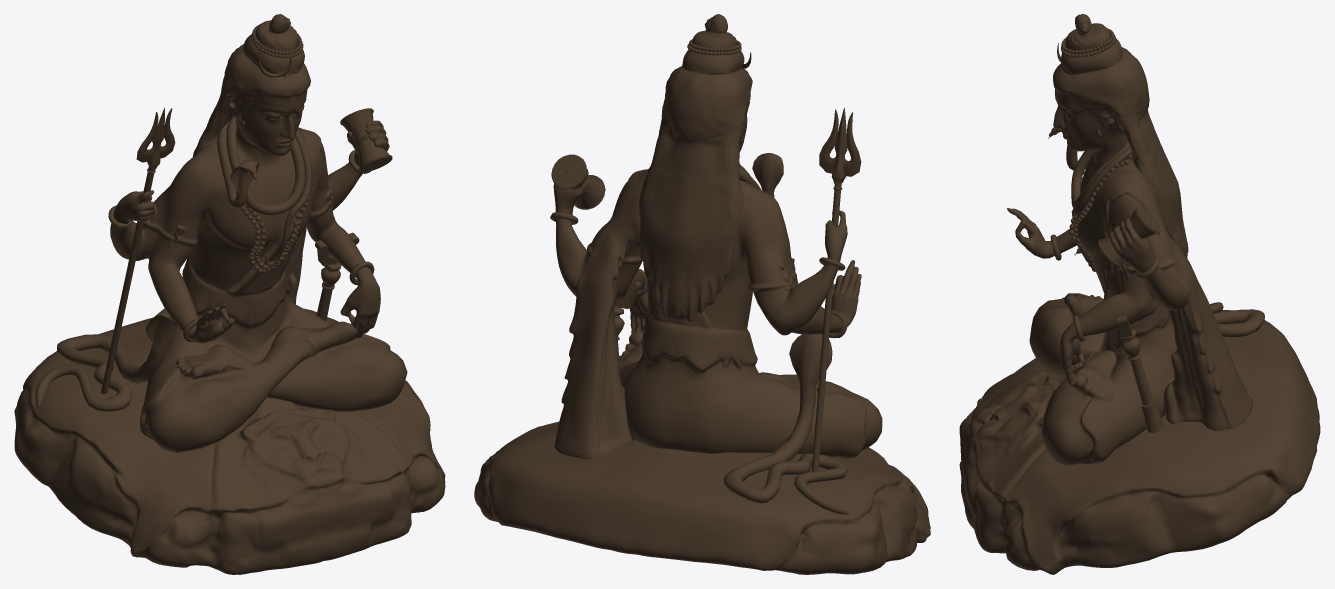
The model's file is shiva.glb.
3 renders of one model, left to right at view 1: azimuth 30°, elevation 25°; view 2: azimuth 150°, elevation 25°; view 3: azimuth 270°, elevation 25°, orthographic. The views are drawn at different scales.
Visible parts, largest first — view 1: shiva-murudeshwar-scan; view 2: shiva-murudeshwar-scan; view 3: shiva-murudeshwar-scan.
Boxes of the visible parts, x1,y1,x2,y2 form: shiva-murudeshwar-scan: [14, 14, 445, 574]; shiva-murudeshwar-scan: [474, 14, 930, 574]; shiva-murudeshwar-scan: [959, 14, 1320, 574].
Size of the model in its own units: 1.15 by 1.5 by 0.9786.
